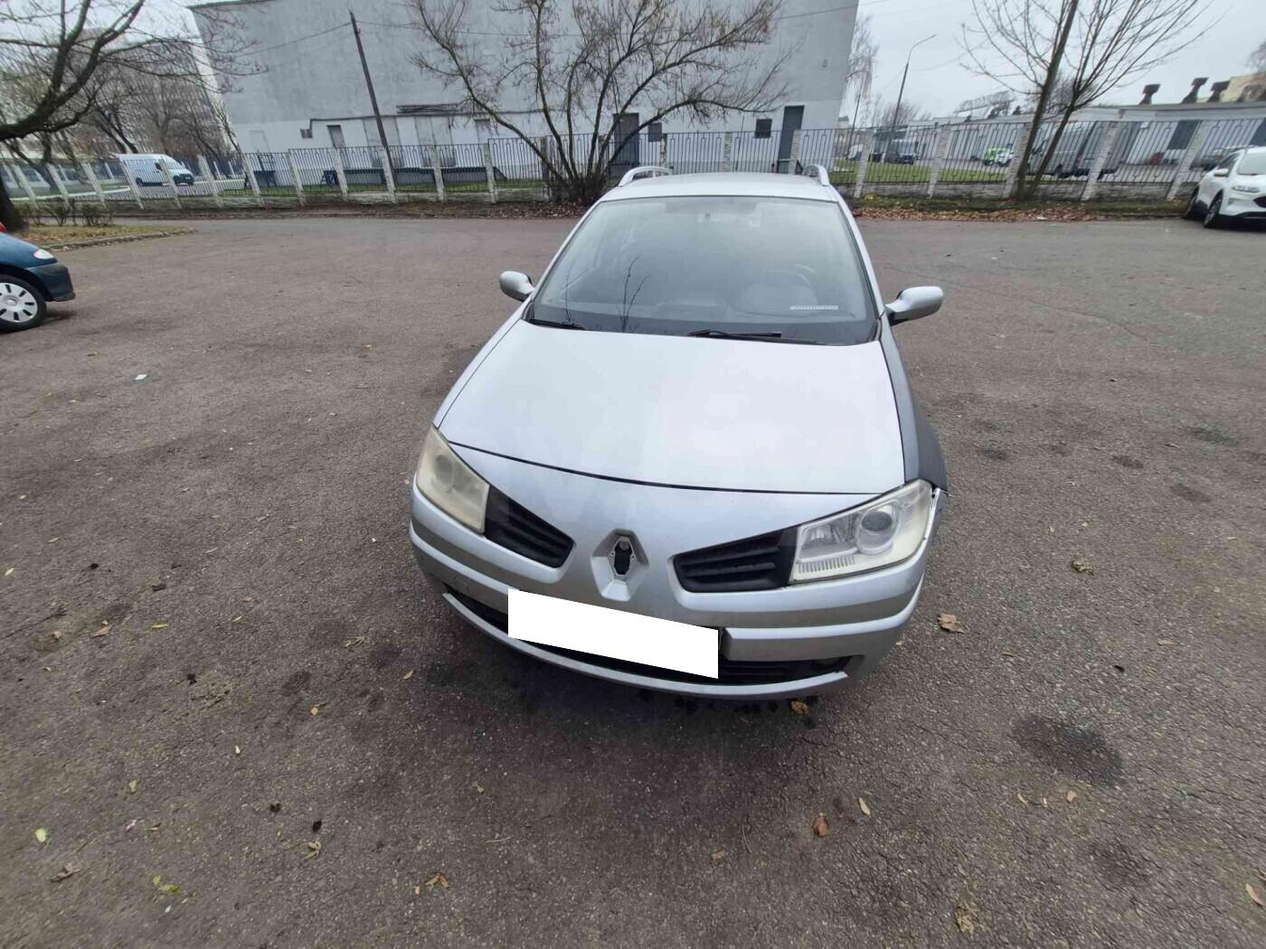Megane_2005-2009: (395, 163, 959, 691)
